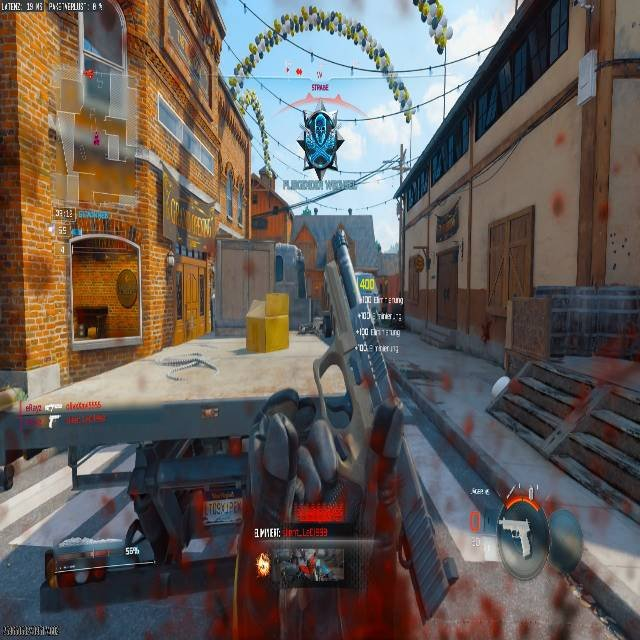player: (299, 107, 344, 180), (386, 297, 407, 331)
